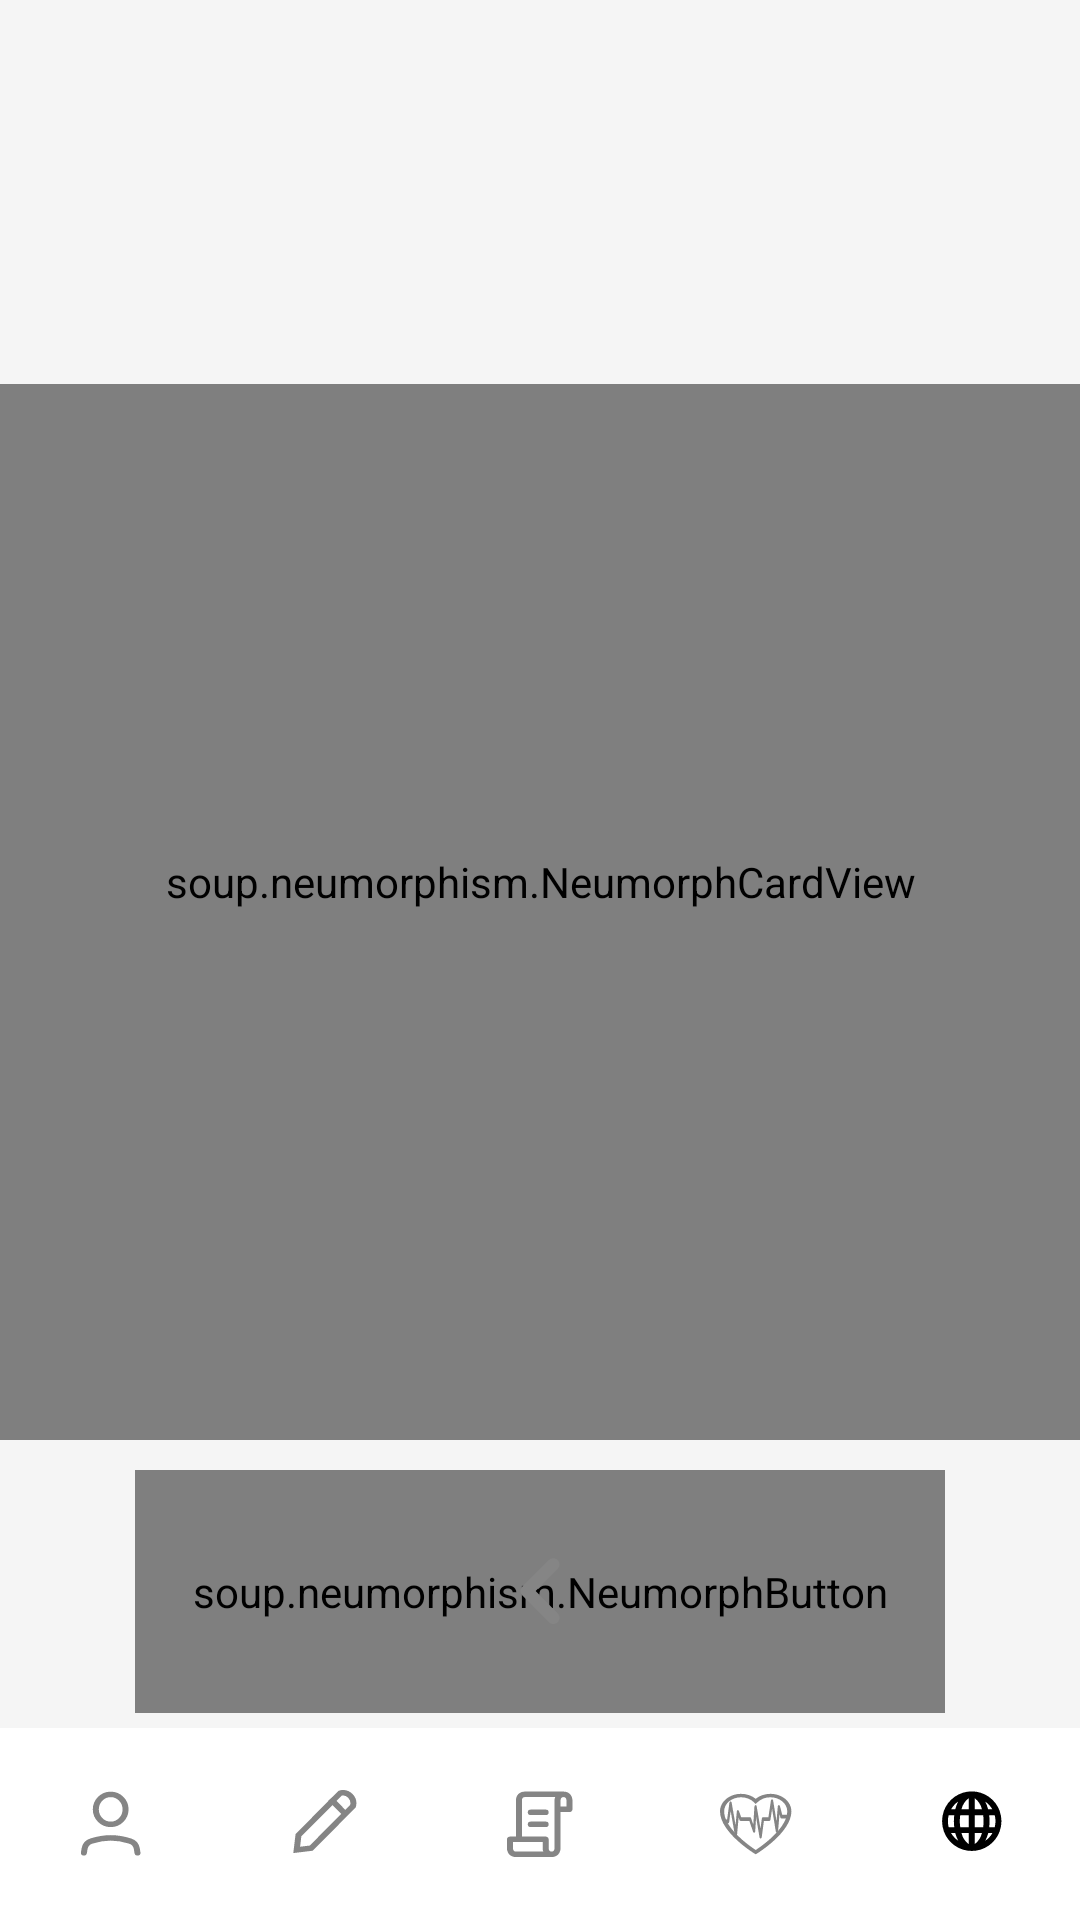

Where icons sit on this 1080x1920 app screen, as (x1, y1, x2, y2):
edit: (293, 1790, 357, 1853)
heart: (720, 1793, 792, 1854)
profile: (81, 1791, 141, 1856)
scroll: (507, 1791, 573, 1857)
